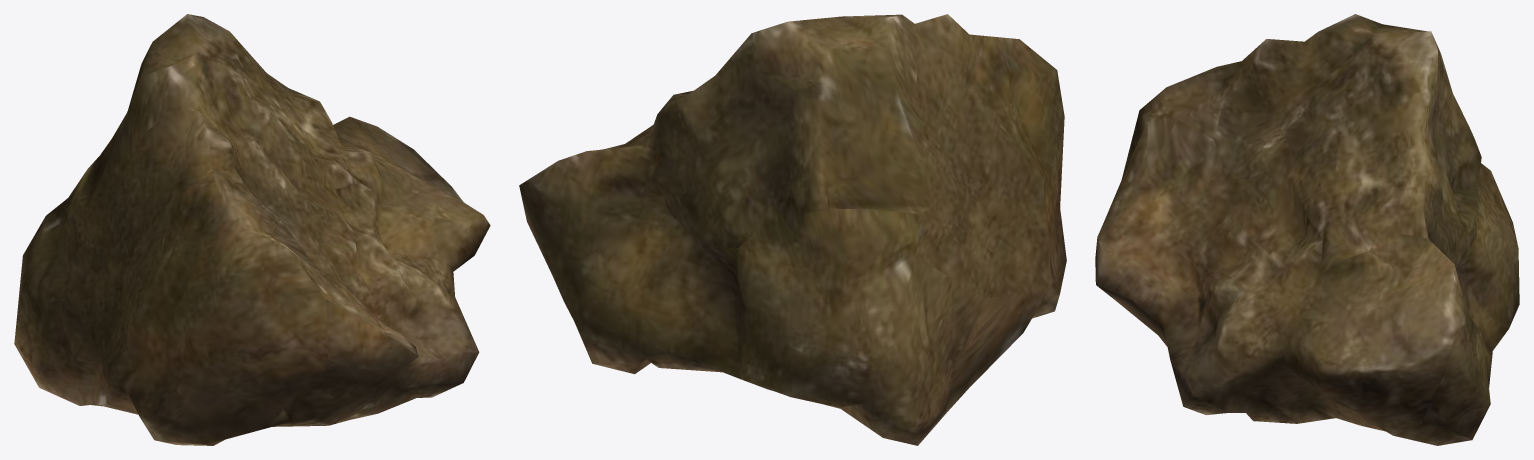
The model's file is mossy_rock_a_4.glb.
The picture shows the model from 3 angles, left to right: view 1: azimuth 30°, elevation 25°; view 2: azimuth 150°, elevation 25°; view 3: azimuth 270°, elevation 25°; orthographic projection. The views are drawn at different scales.
Visible parts, largest first — view 1: rock_moss_set_01_rock04; view 2: rock_moss_set_01_rock04; view 3: rock_moss_set_01_rock04.
Part boxes in pixels (x1,y1,x2,y2): rock_moss_set_01_rock04: (14,14,490,445); rock_moss_set_01_rock04: (519,14,1066,445); rock_moss_set_01_rock04: (1095,14,1519,445).
Size of the model in its own units: 2.14 by 1.76 by 1.96.
Materials: 1 (1 with a texture image).
